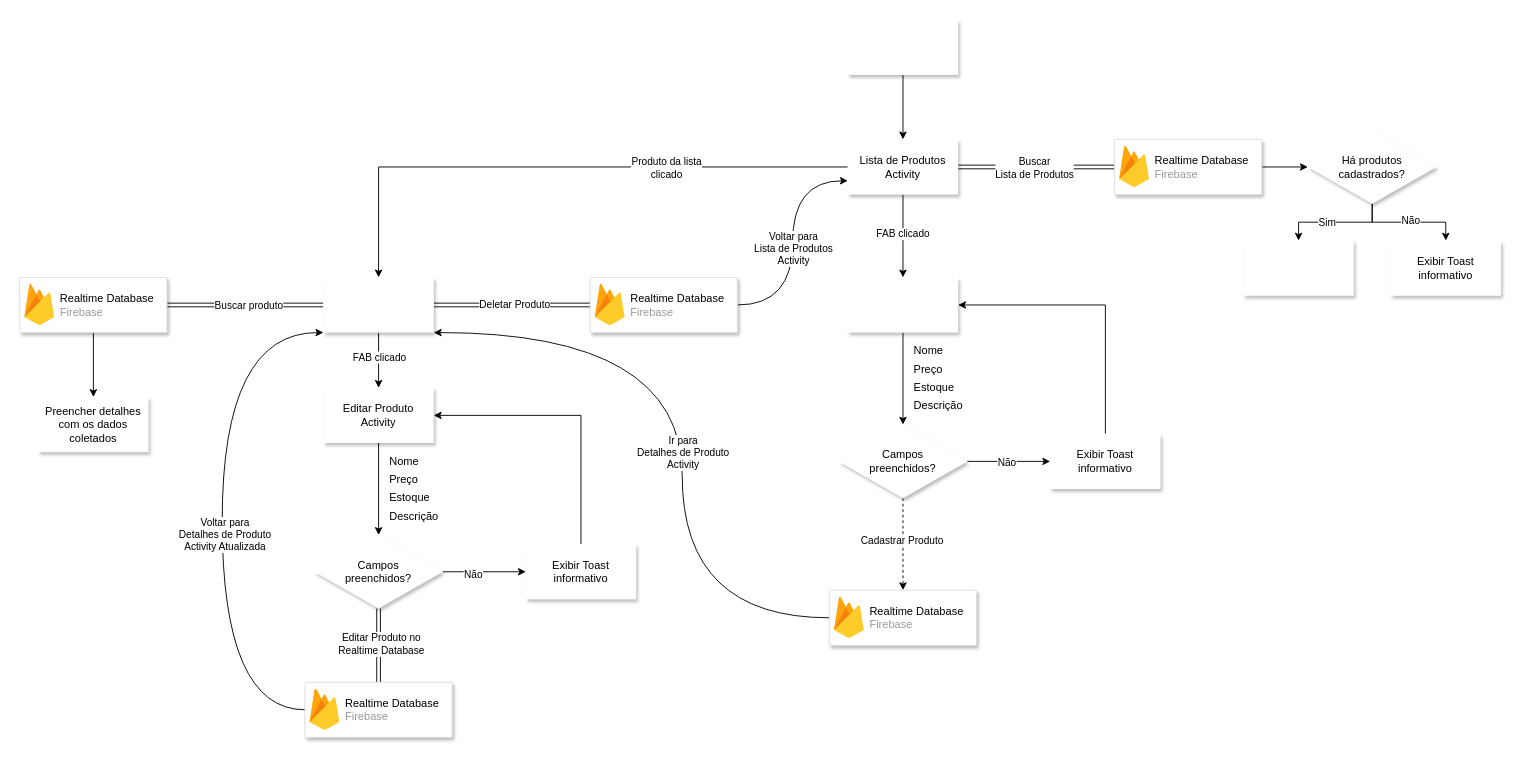
Some shapes in this 1523 by 760 pixel diagram are drawn without their labels. Here are the shapes that lost their labels. From the top down, the centre of each, then its label:
At point (903, 48): "Home Activity".
At point (1299, 269): "Carregar Lista de Produtos".
At point (379, 306): "Detalhes de Produto Activity".
At point (903, 306): "Cadastrar Produto Activity".
